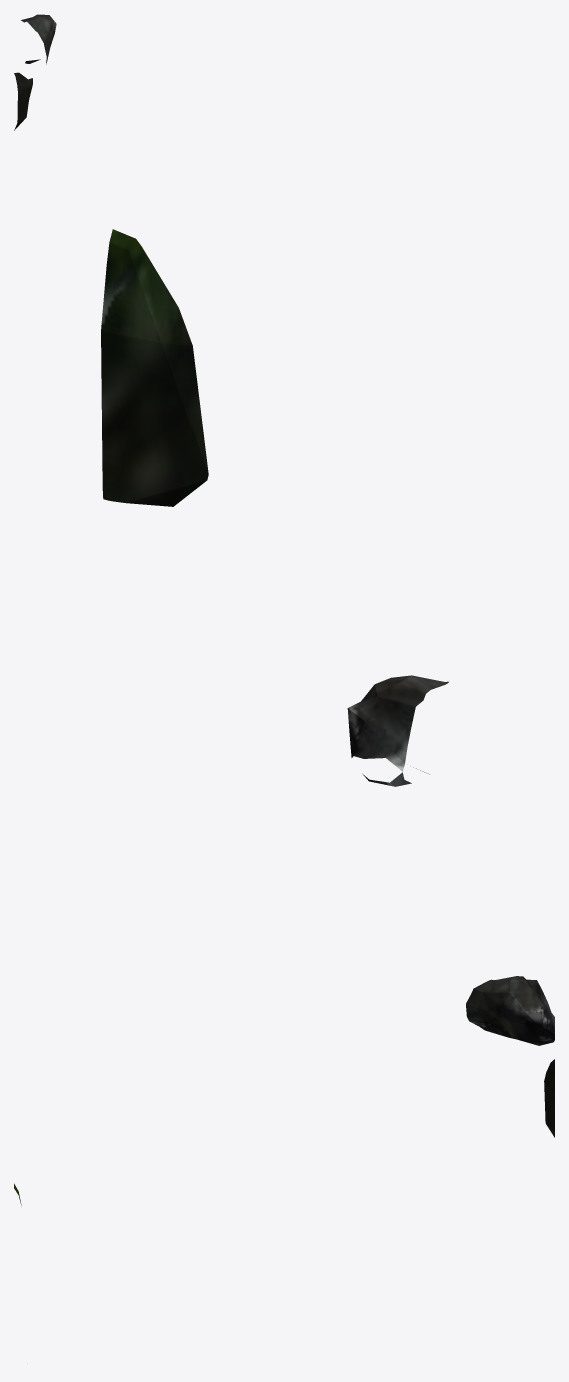
3 views of the same model, one above another, from view 1: azimuth 30°, elevation 25°; view 2: azimuth 150°, elevation 25°; view 3: azimuth 270°, elevation 25° (orthographic). The views are drawn at different scales.
Bounding box in the file's own units: 0.8374 × 0.3068 × 0.8373.
Materials: 1 (1 with a texture image).
